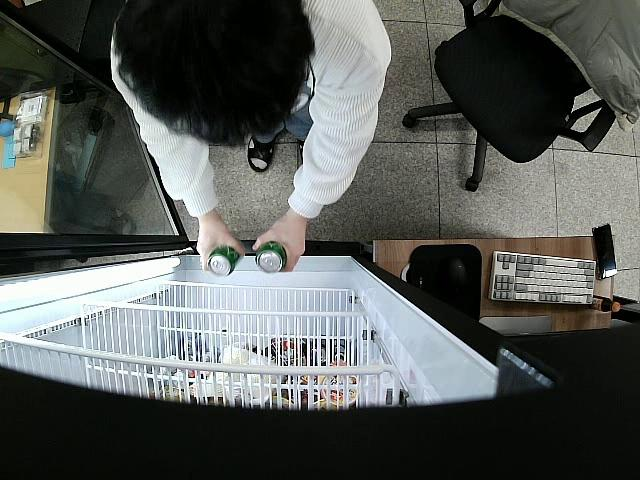00_hand: (252, 211, 306, 273), (196, 216, 245, 273)
12_chilsungCider: (206, 244, 241, 276), (254, 243, 289, 275)
